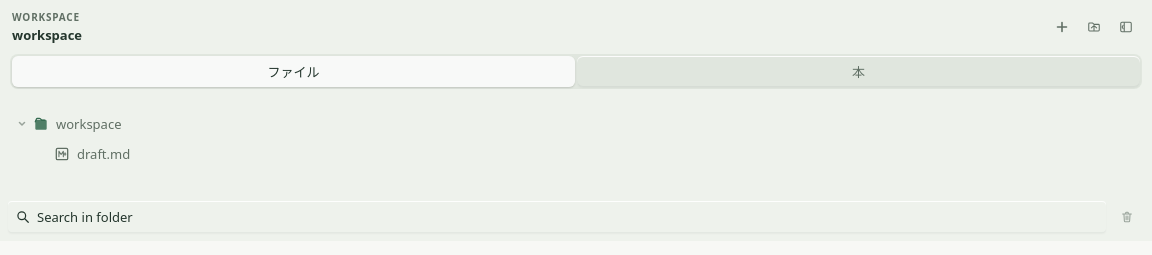
Scenario: WorkspaceSidebar Theme A clarity › keeps file and folder actions before the labeled OKF starter group
This screenshot has width=1152, height=255.
Click the button named "New".
click(1062, 27)  # box top-left (1048, 13), bottom-right (1076, 41)
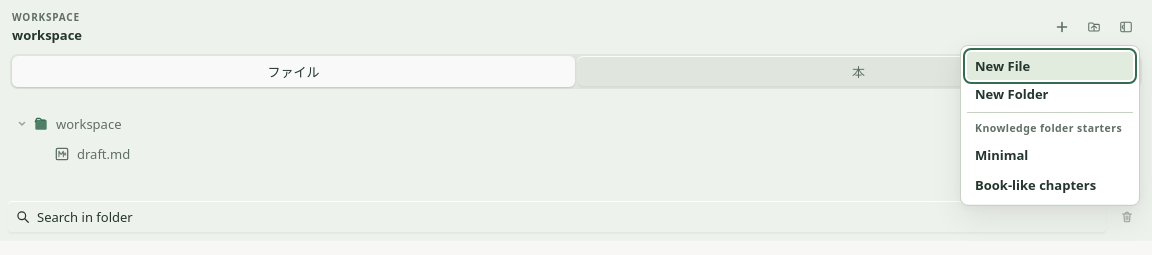
Now the menu items read "New File", "New Folder", "Minimal", "Book-like chapters", in this order, box top-left (967, 52), bottom-right (1133, 80); top-left (967, 80), bottom-right (1133, 108); top-left (967, 141), bottom-right (1133, 169); top-left (967, 171), bottom-right (1133, 199)
Now the element "Knowledge folder starters" is shown, box top-left (967, 112), bottom-right (1133, 199)
